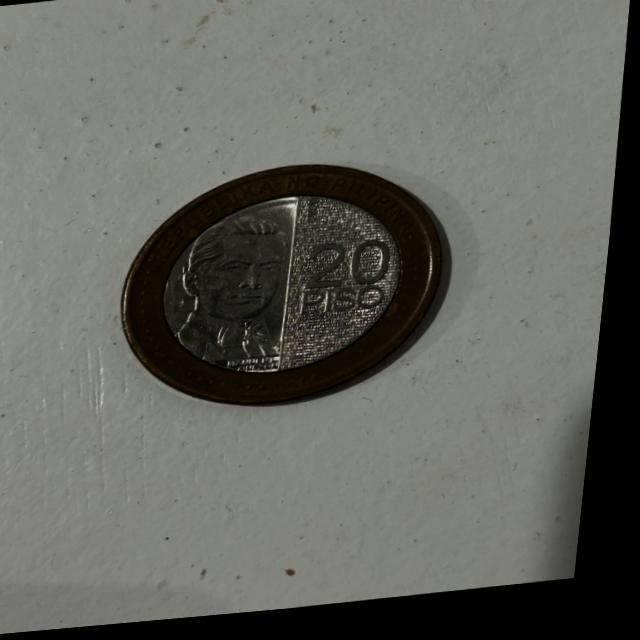20_New_Front: (293, 228, 401, 335)
